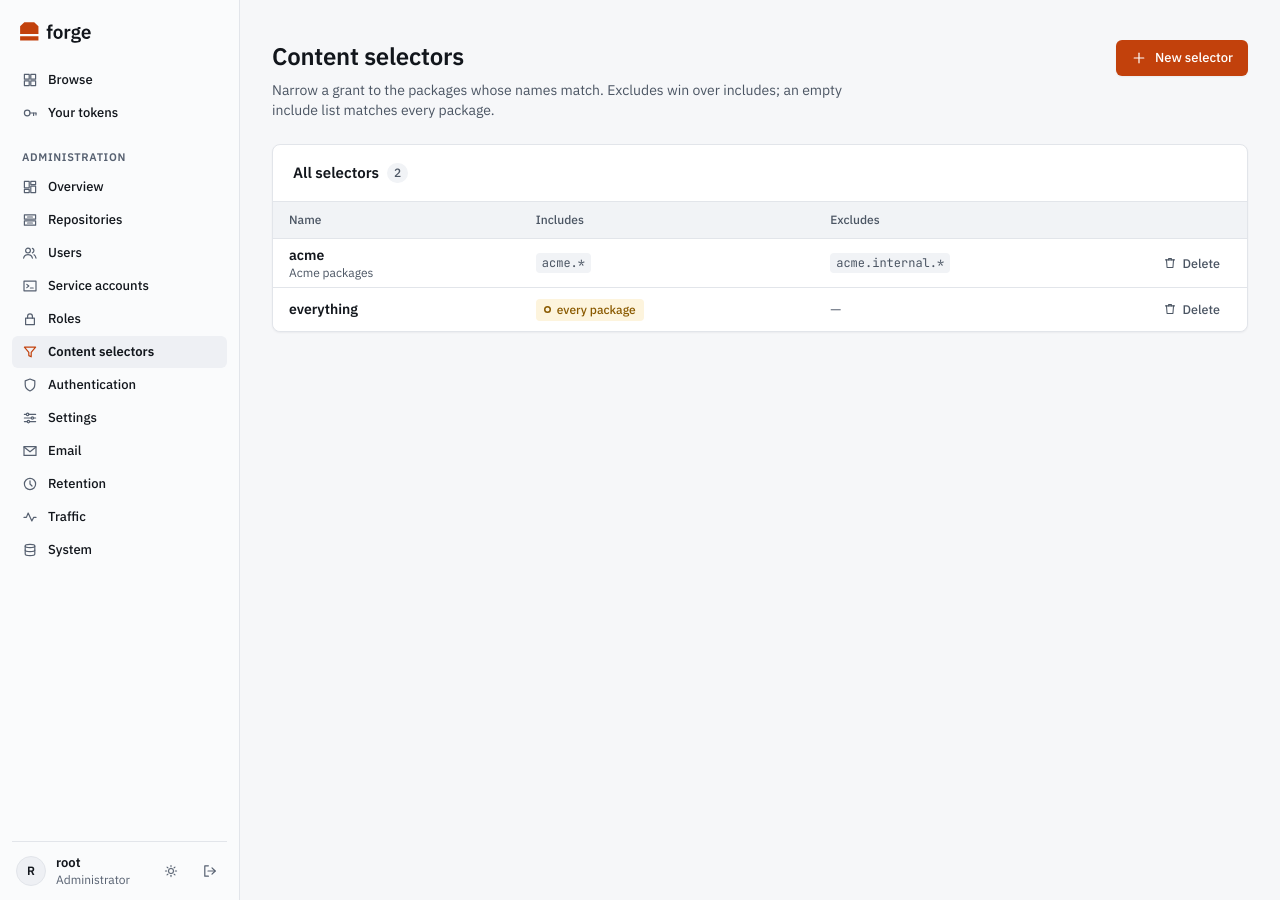
Test case: admin content selectors › names the grants a selector takes along before deleting it
This screenshot has width=1280, height=900.
Click the button with aria-label "Delete acme". click: (1191,262)
box: [1152, 248, 1231, 276]
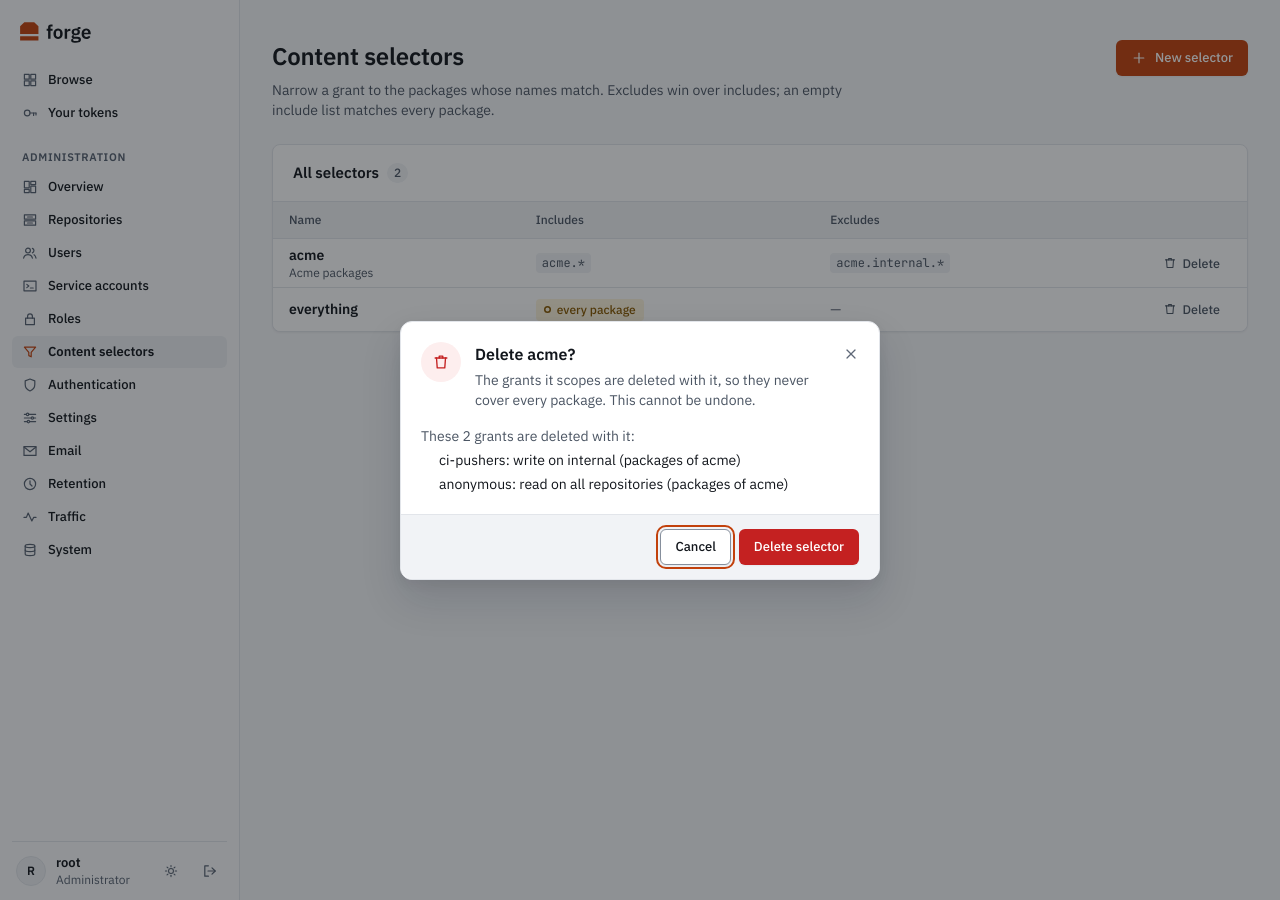
Expected: the list item "ci-pushers: write on internal (packages of acme)" is shown, [439, 450, 741, 468]
Expected: the list item "anonymous: read on all repositories (packages of acme)" is shown, [439, 474, 788, 492]
Click the button "Delete selector". click: (799,546)
box: [739, 528, 859, 564]
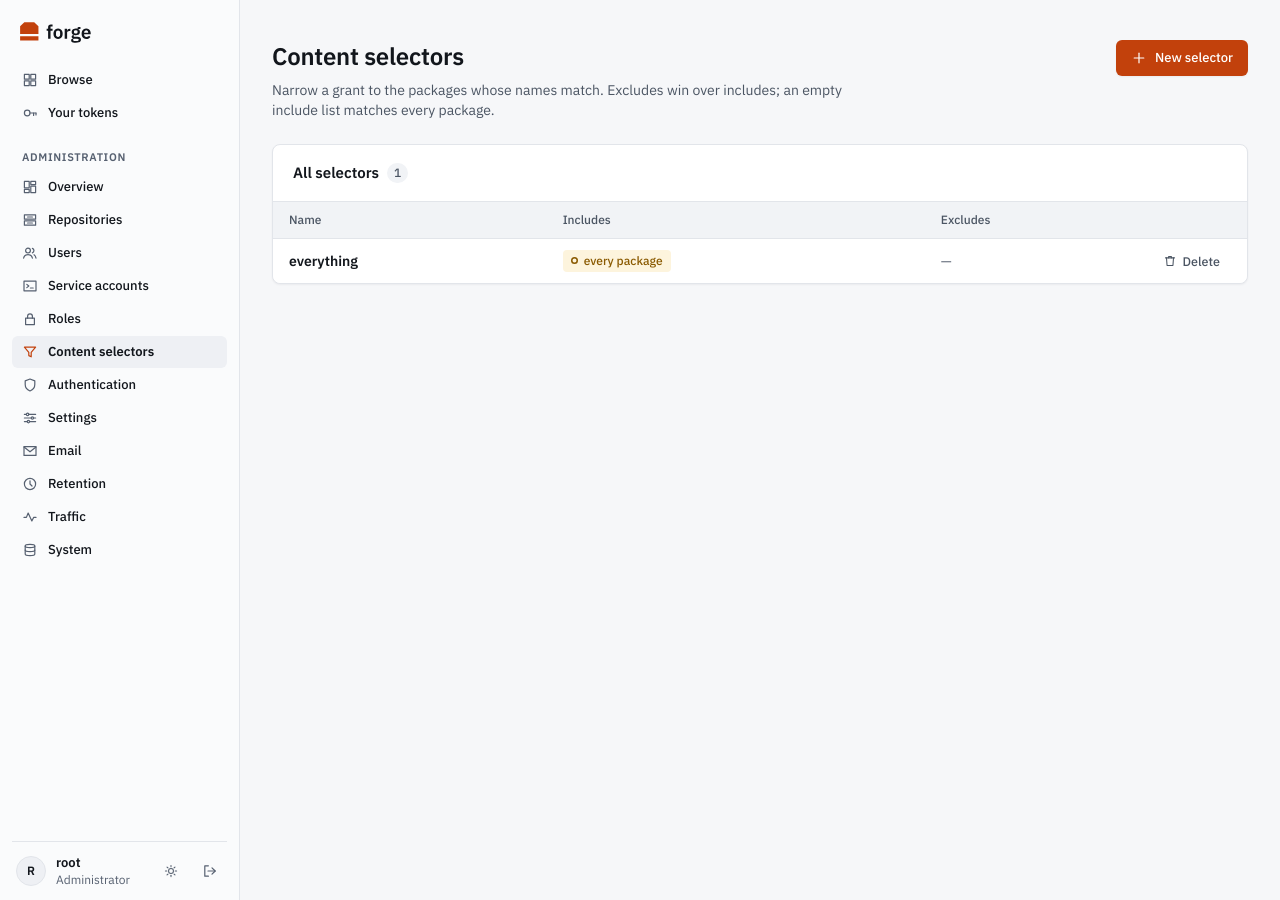
Expected: the link "acme" is gone
